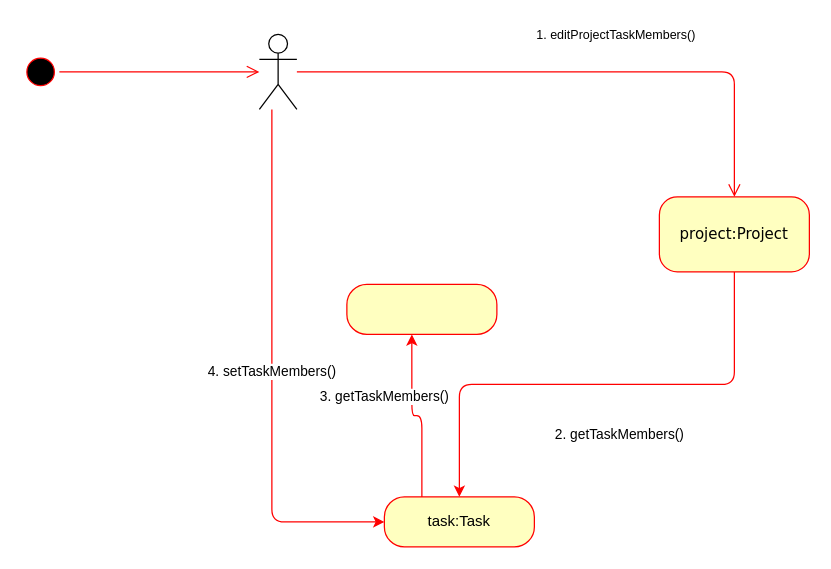
Some shapes in this 831 by 569 pixel diagram are drawn without their labels. Each missing label, with the centre of its shape:
"Actor" belongs at point (277, 71).
"members:List" belongs at point (421, 308).
